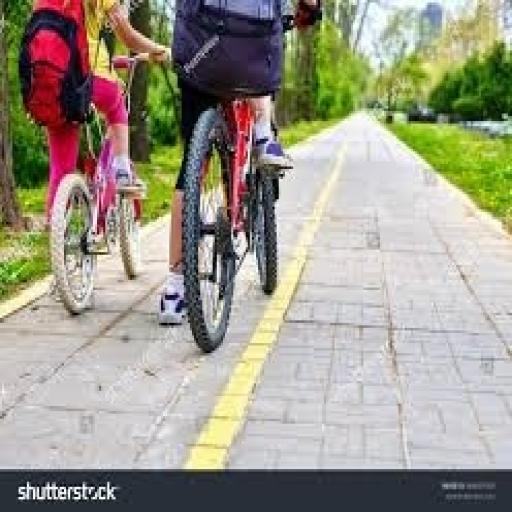cycling: (155, 0, 326, 328), (16, 0, 172, 255)
